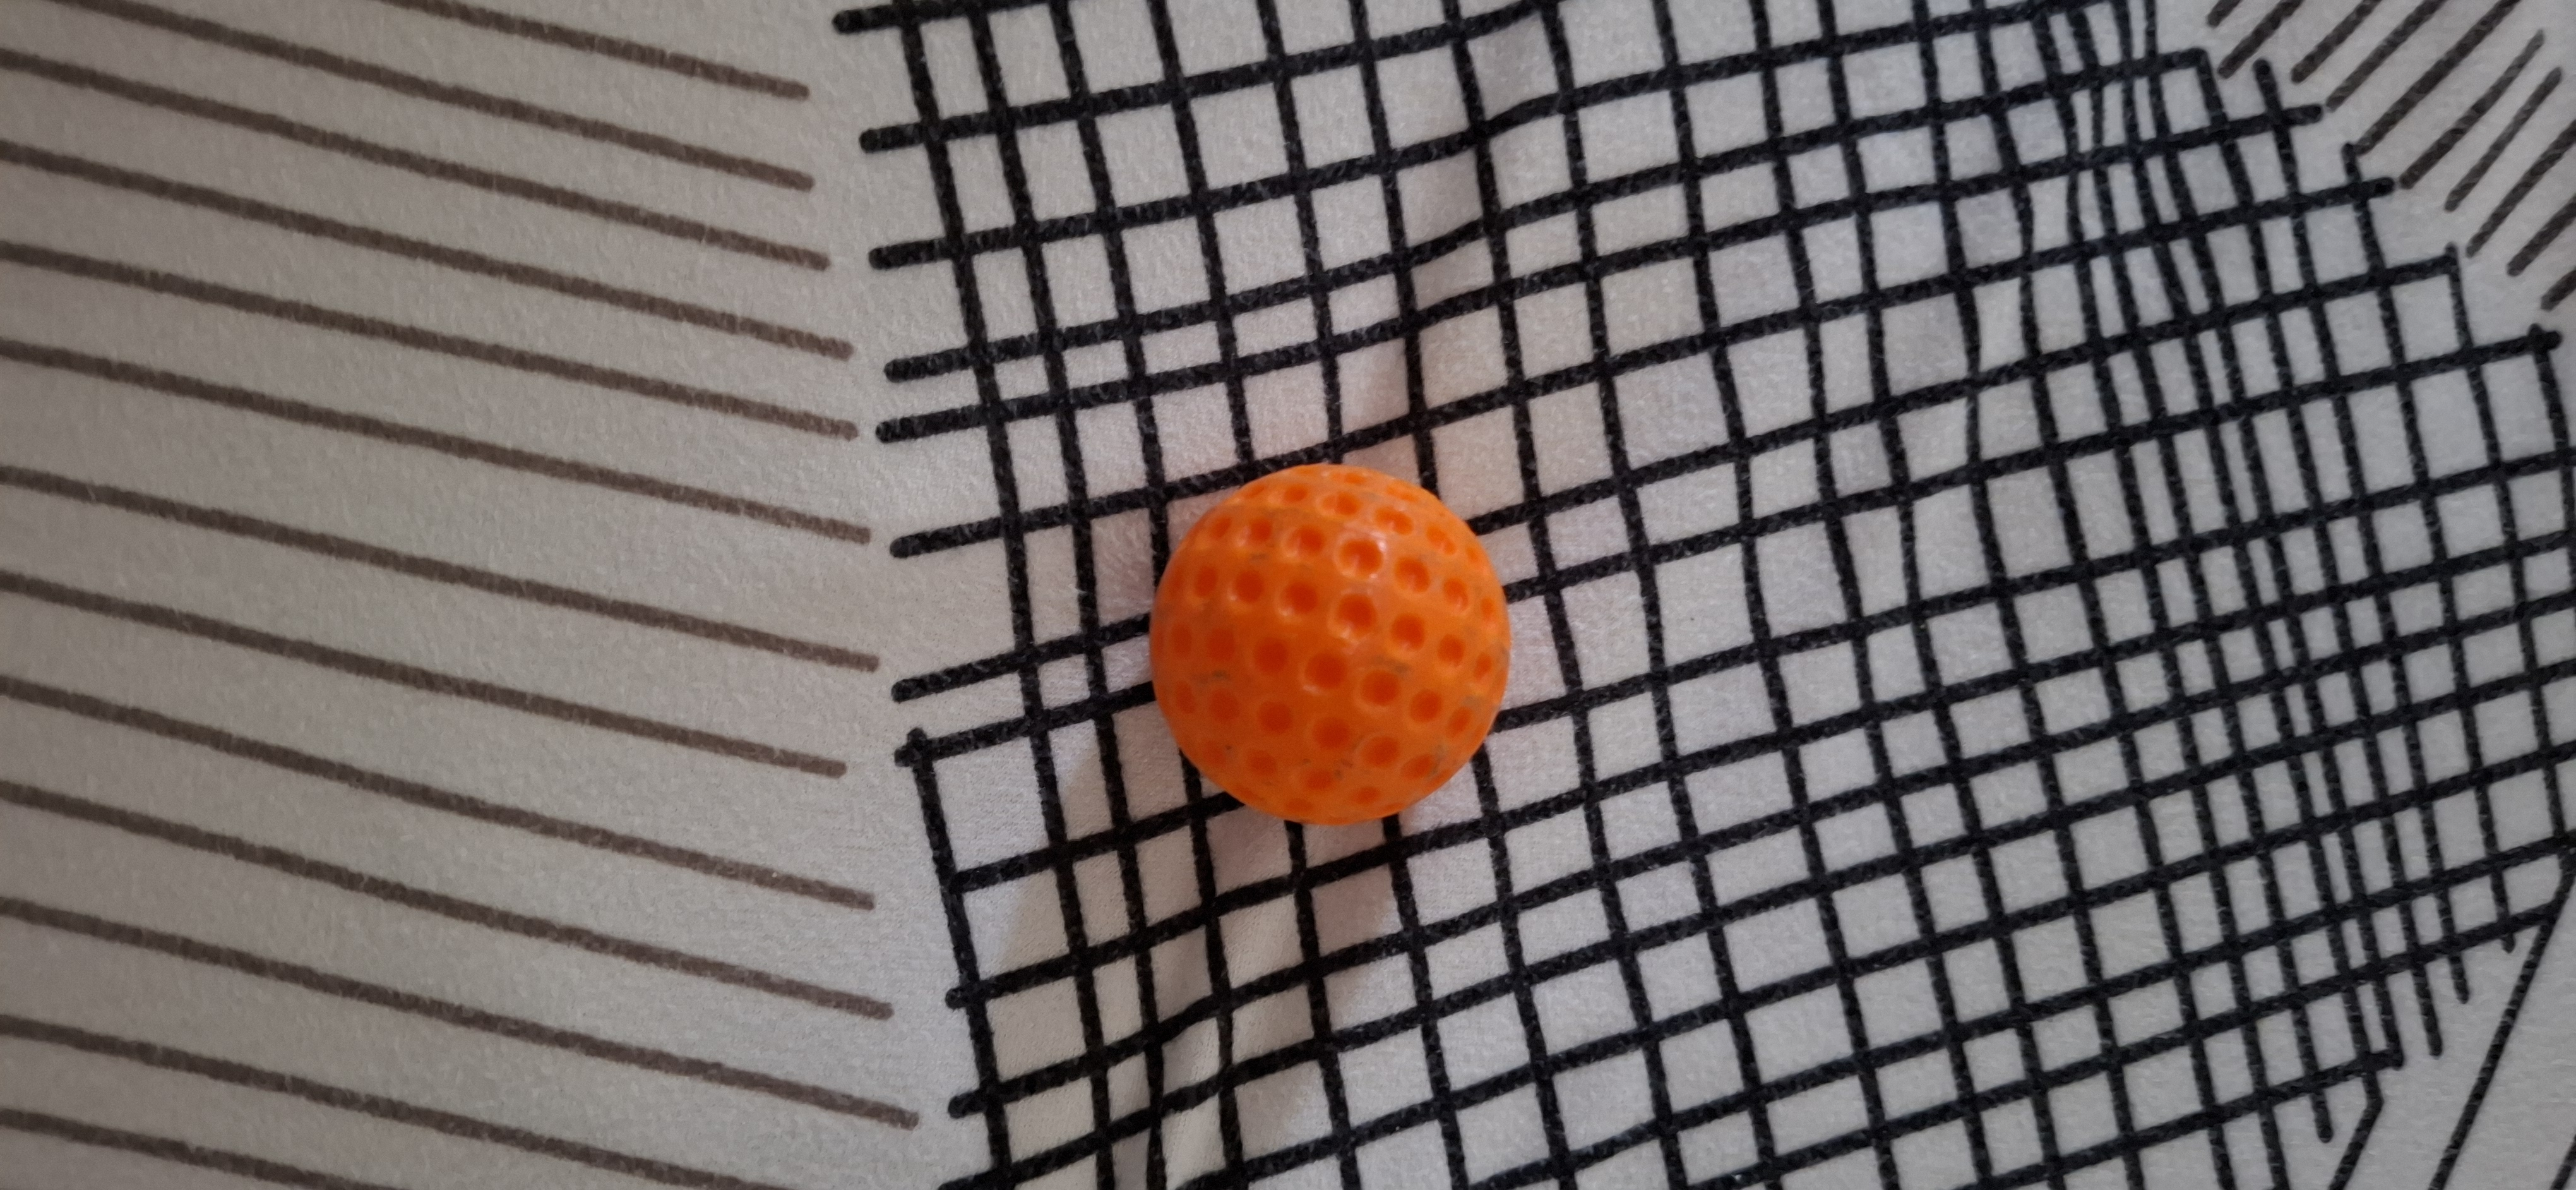ball: (1150, 460, 1518, 833)
